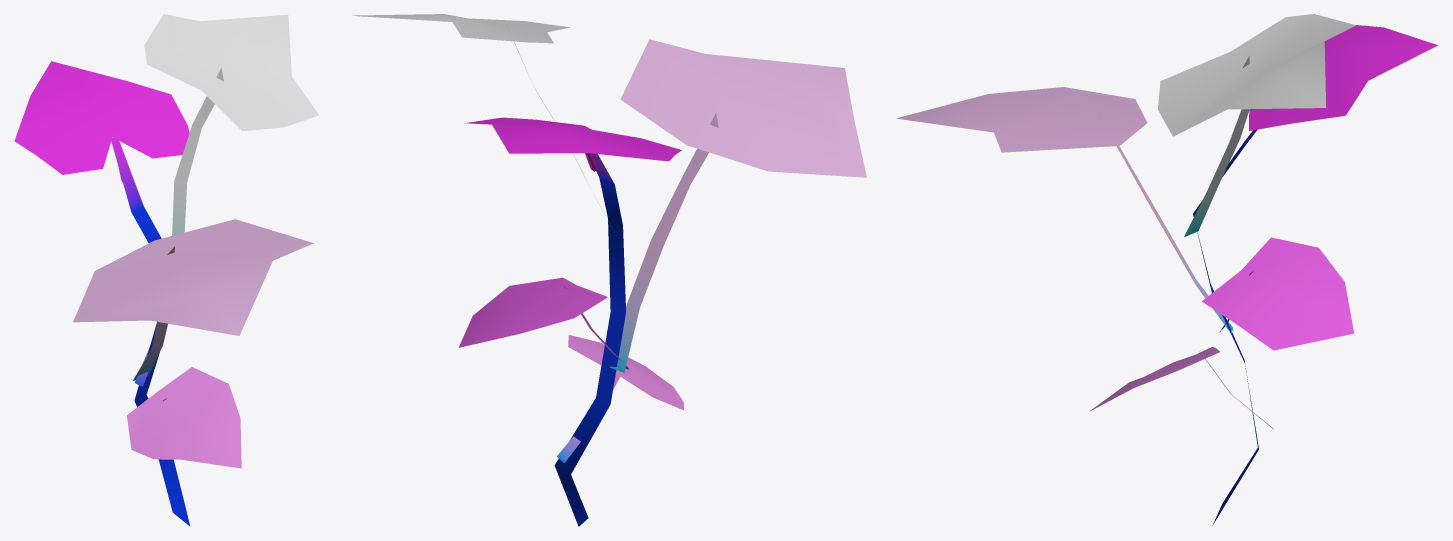
Rendered from English_Ivy_xfcnebhqx_High_xfcnebhqx_VarI_LOD2.fbx.
3 views of the same model, side by side, from view 1: azimuth 30°, elevation 25°; view 2: azimuth 150°, elevation 25°; view 3: azimuth 270°, elevation 25° (orthographic). The views are drawn at different scales.
Visible parts, largest first — view 1: _bcm9_VarI_LOD2; view 2: _bcm9_VarI_LOD2; view 3: _bcm9_VarI_LOD2.
Boxes of the visible parts, x1,y1,x2,y2 form: _bcm9_VarI_LOD2: (14,14,319,526); _bcm9_VarI_LOD2: (352,14,866,526); _bcm9_VarI_LOD2: (896,14,1437,525).
Size of the model in its own units: 14.33 by 18.96 by 17.88.
